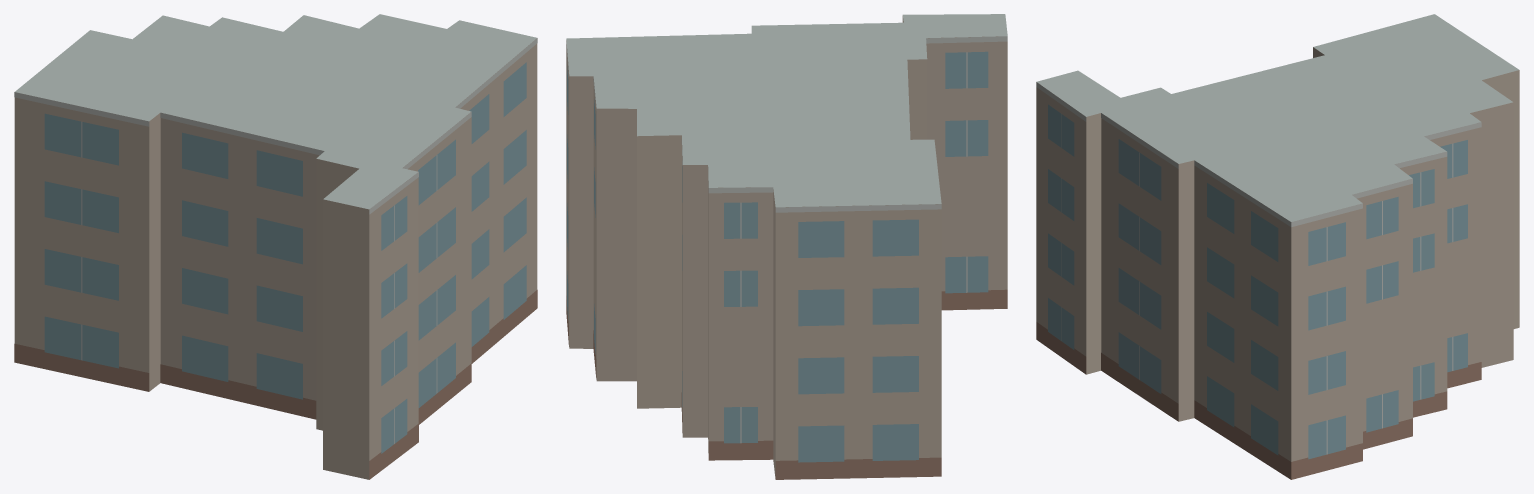
The model's file is survey-upis-32620335.glb.
3 views of the same model, side by side, from view 1: azimuth 30°, elevation 25°; view 2: azimuth 150°, elevation 25°; view 3: azimuth 270°, elevation 25° (orthographic). The views are drawn at different scales.
Visible parts, largest first — view 1: survey-upis-32620335.tmp; view 2: survey-upis-32620335.tmp; view 3: survey-upis-32620335.tmp.
Part boxes in pixels (x1,y1,x2,y2): survey-upis-32620335.tmp: [14, 14, 537, 479]; survey-upis-32620335.tmp: [566, 14, 1007, 479]; survey-upis-32620335.tmp: [1036, 14, 1519, 479].
Size of the model in its own units: 21.31 by 12.3 by 20.91.
